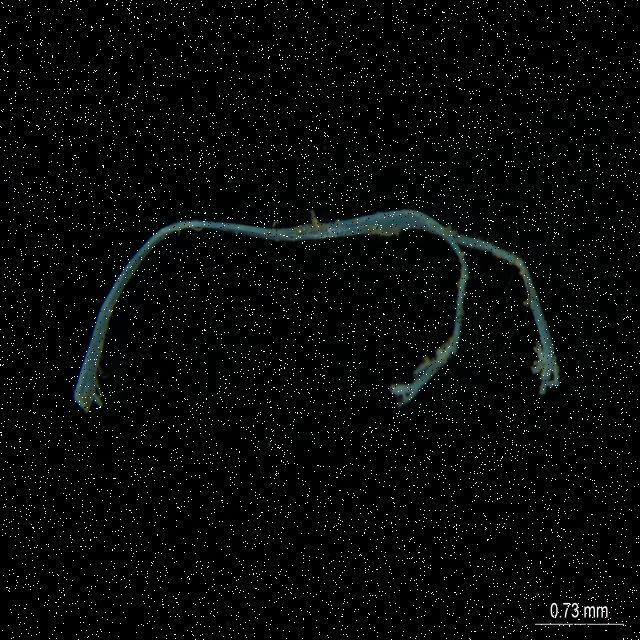Fibre: (78, 198, 570, 410)
